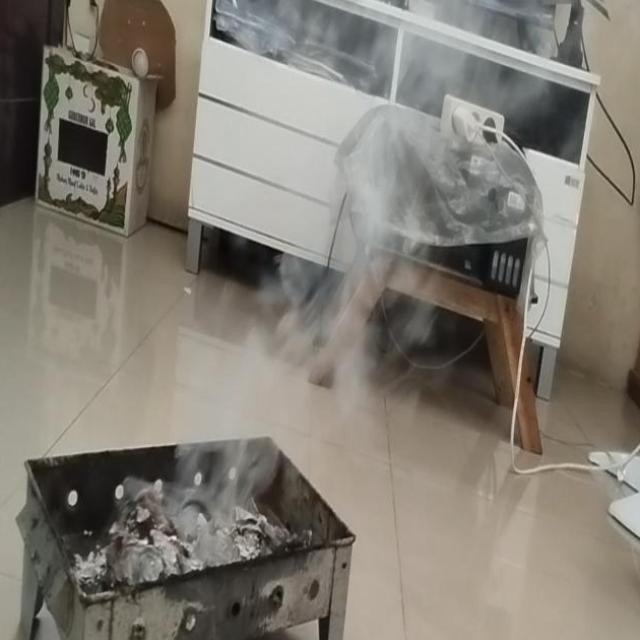fire: (292, 211, 442, 436), (161, 326, 292, 530)
